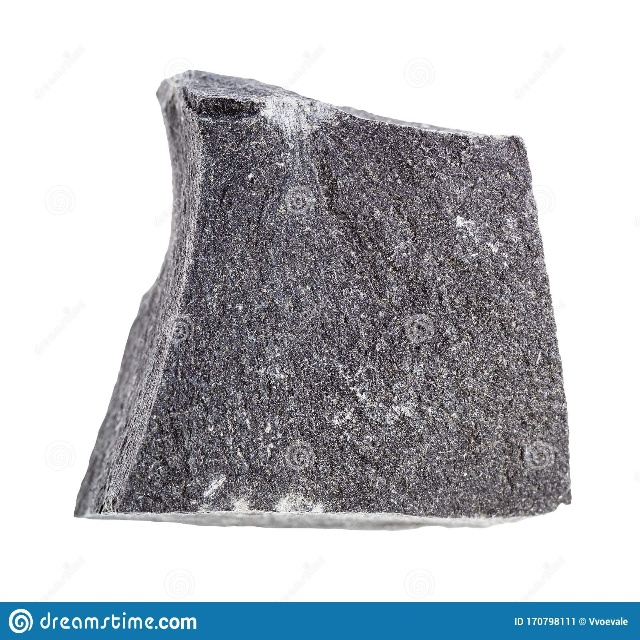obstacle: (76, 72, 570, 527)
